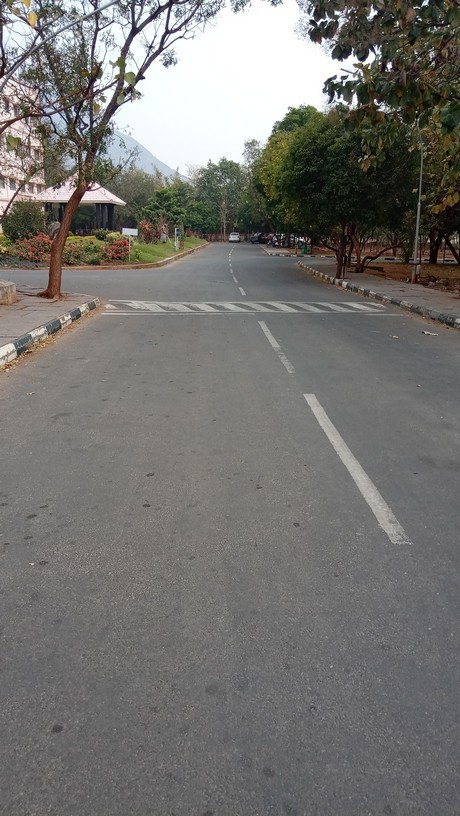bump: (93, 298, 390, 316)
